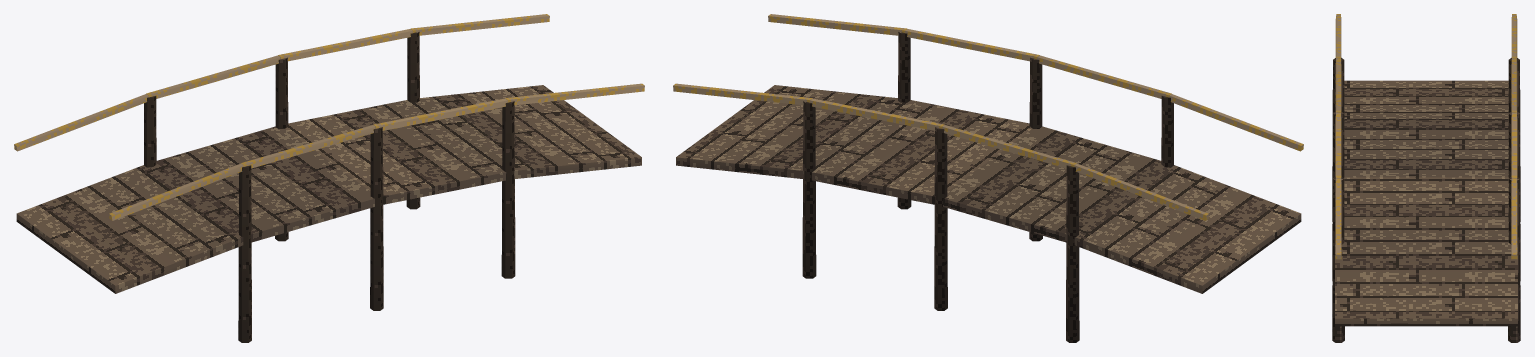
The model's file is vlg.bridge__timber.glb.
3 renders of one model, left to right at view 1: azimuth 30°, elevation 25°; view 2: azimuth 150°, elevation 25°; view 3: azimuth 270°, elevation 25°, orthographic. The views are drawn at different scales.
Visible parts, largest first — view 1: kit_deck, kit_rail; view 2: kit_deck, kit_rail; view 3: kit_deck, kit_rail.
Boxes of the visible parts, <box> form: kit_deck: <box>16,85,641,293</box>; kit_rail: <box>14,14,644,342</box>; kit_deck: <box>676,85,1301,293</box>; kit_rail: <box>673,14,1303,342</box>; kit_deck: <box>1335,80,1517,326</box>; kit_rail: <box>1332,14,1520,342</box>.
Bounding box in the file's own units: 8.1 × 2.66 × 2.68.
Materials: 3 (3 with a texture image).
